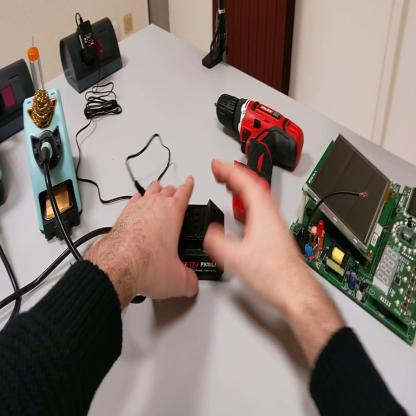electric screwdriver: (214, 97, 305, 224)
hand: (206, 157, 298, 313), (115, 178, 198, 305)
low voltage board: (291, 126, 416, 346)
socket: (58, 11, 123, 93), (2, 57, 38, 146)
welder base: (17, 45, 86, 246)
welder probe tip: (41, 142, 56, 171)
